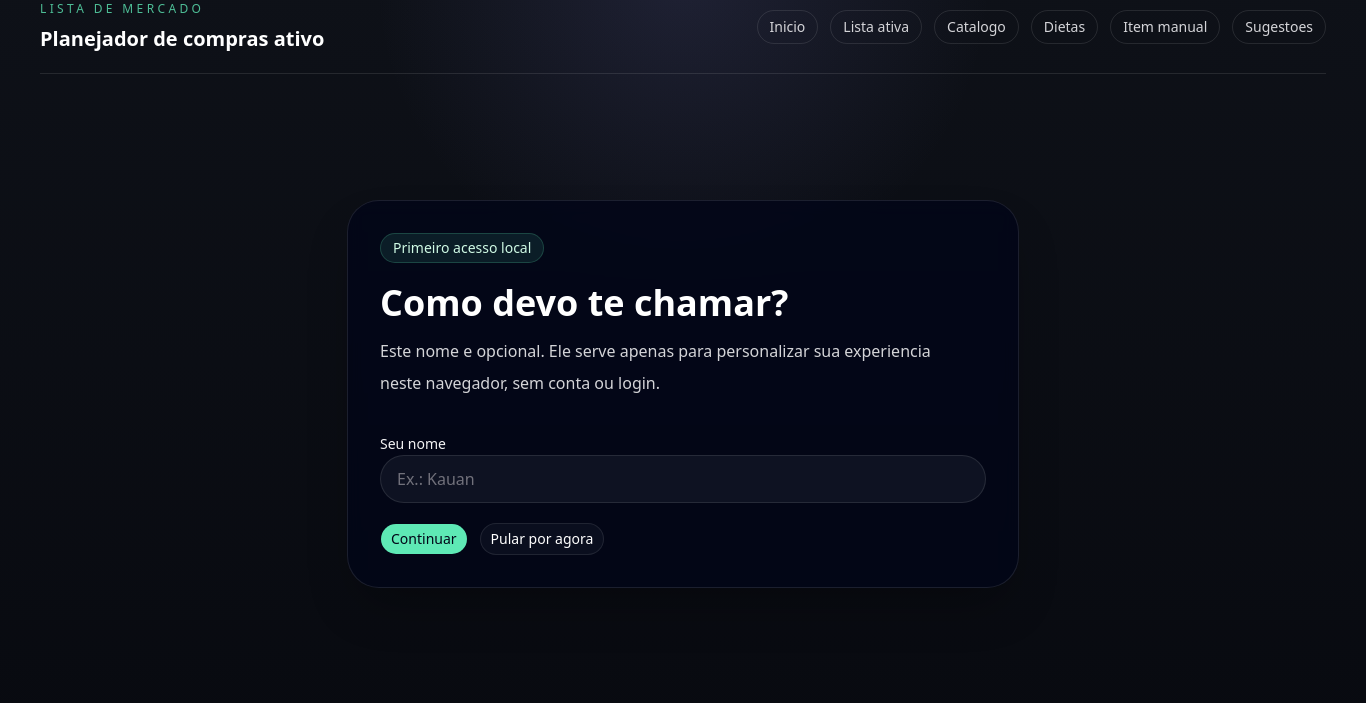
shopping-list workspace › previews and bulk adds a full diet collection while respecting merge behavior
Click the button "Pular por agora" at (542, 539), box [480,523,604,555]
(page scrolled)
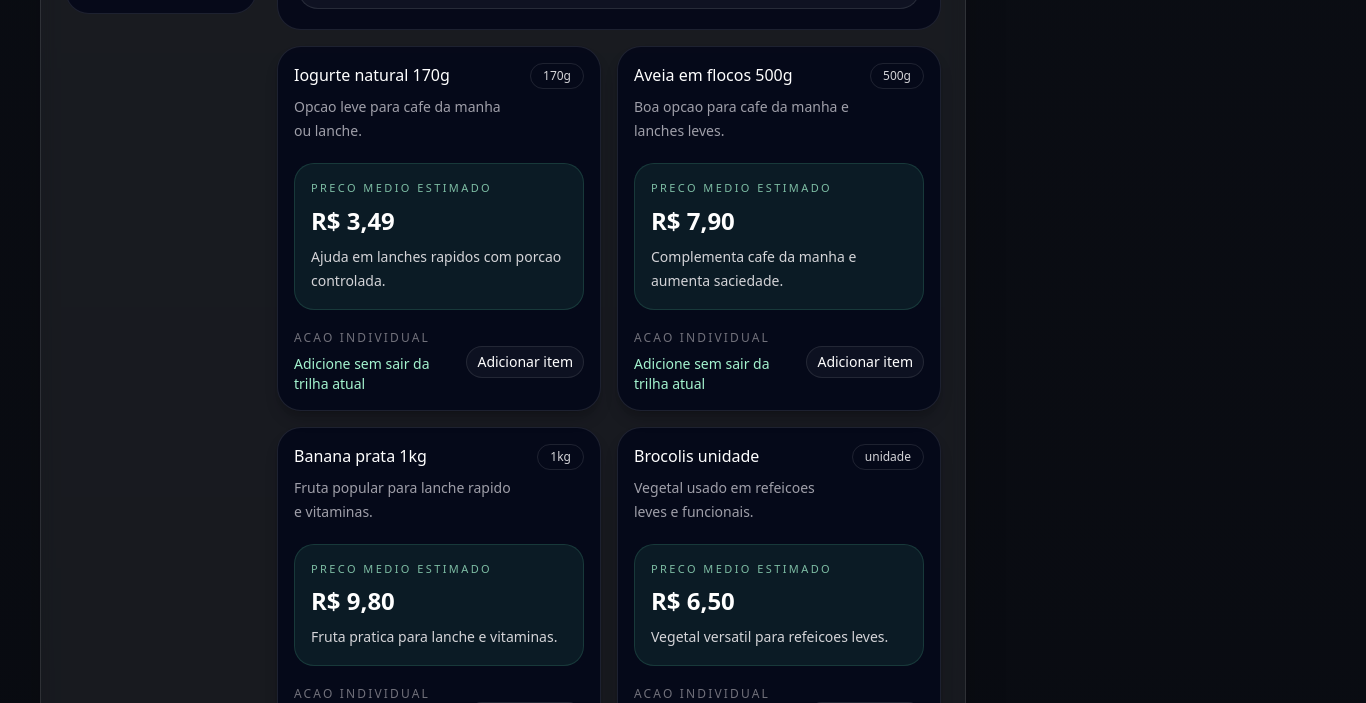
Click the button with aria-label "Adicionar Iogurte natural 170g da dieta a lista ativa" at (525, 362), box [466,346,584,378]
(page scrolled)
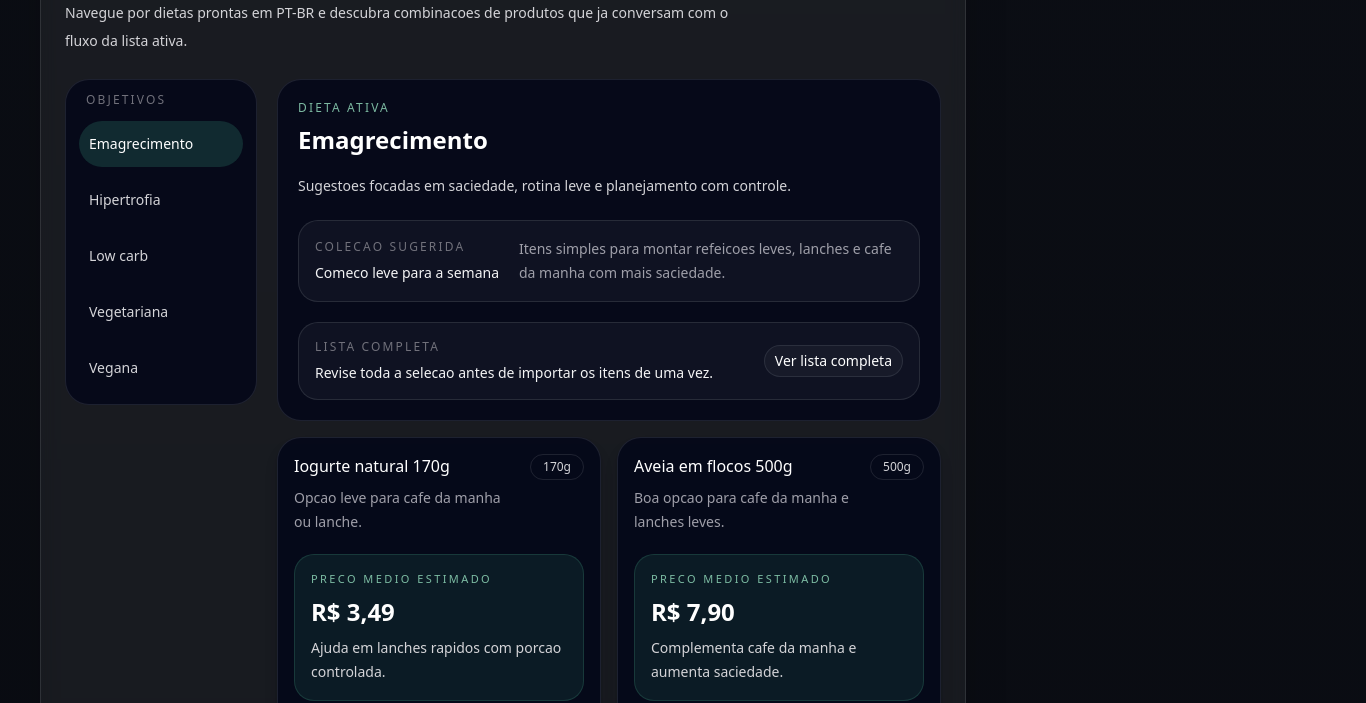
Click the button "Ver lista completa" at (833, 361), box [764,345,903,377]
(page scrolled)
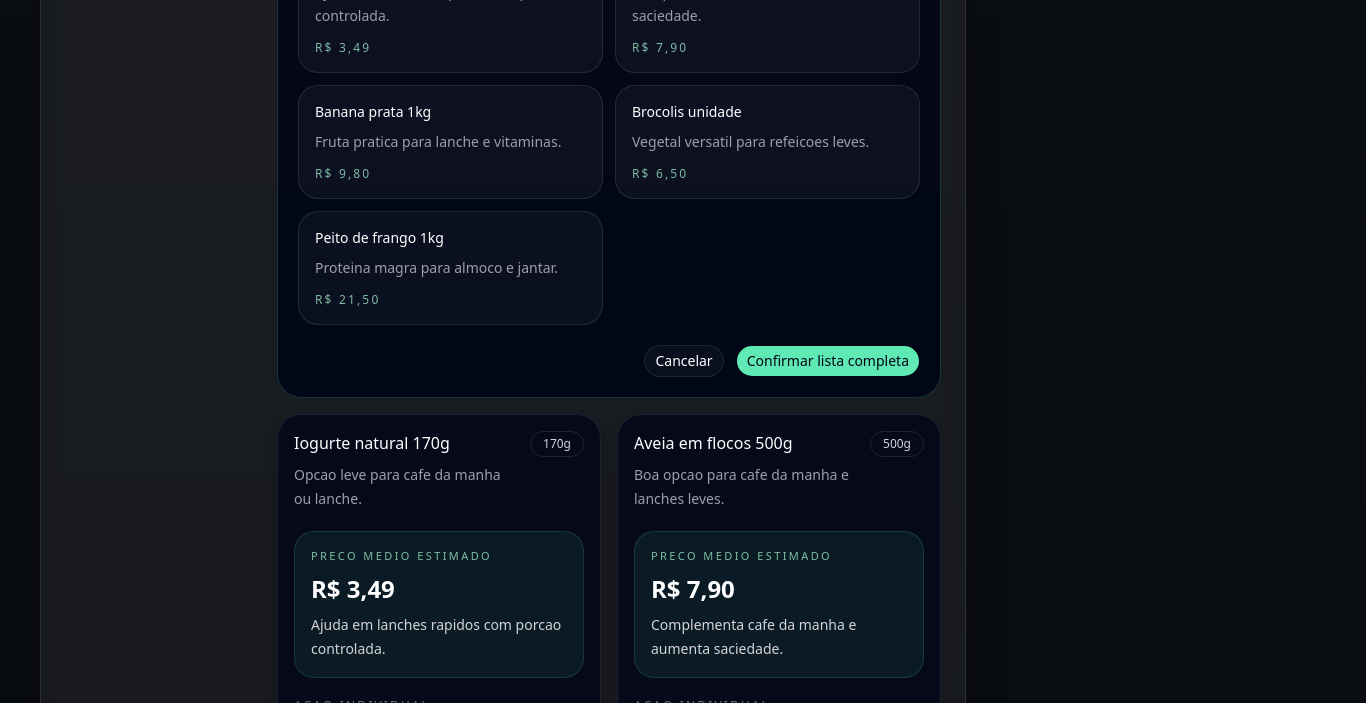
Click the button "Cancelar" at (684, 361), box [644,345,724,377]
(page scrolled)
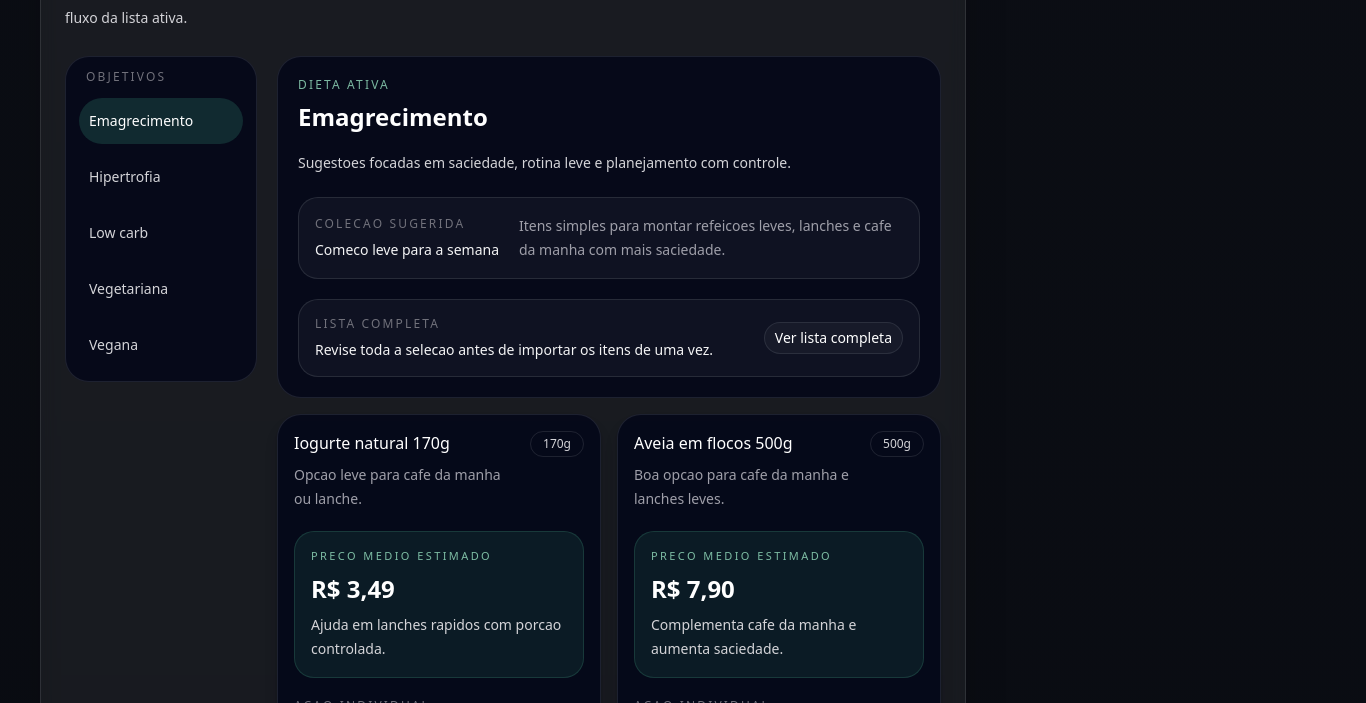
Check: the text "Iogurte natural 170g" is shown, box [294,432,450,454]
Click the button "Ver lista completa" at (833, 338), box [764,322,903,354]
(page scrolled)
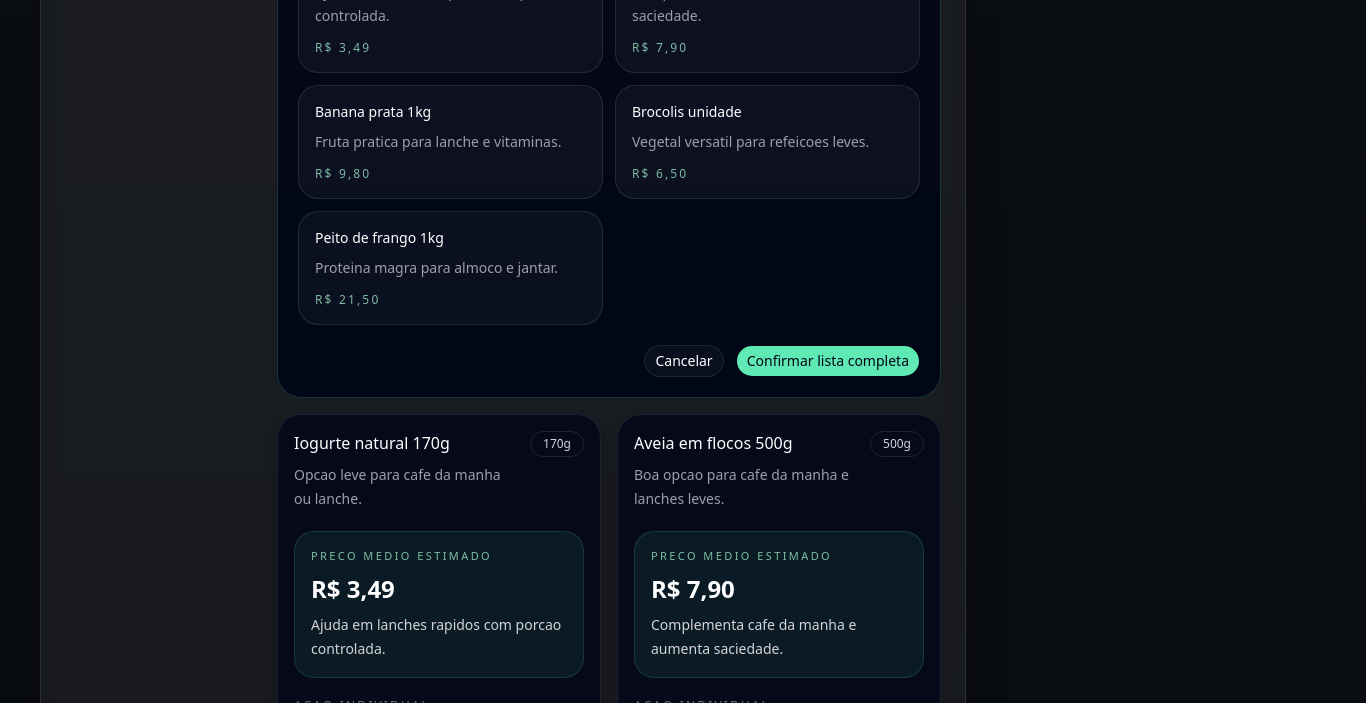
Click the button "Confirmar lista completa" at (828, 361), box [736,345,920,377]
(page scrolled)
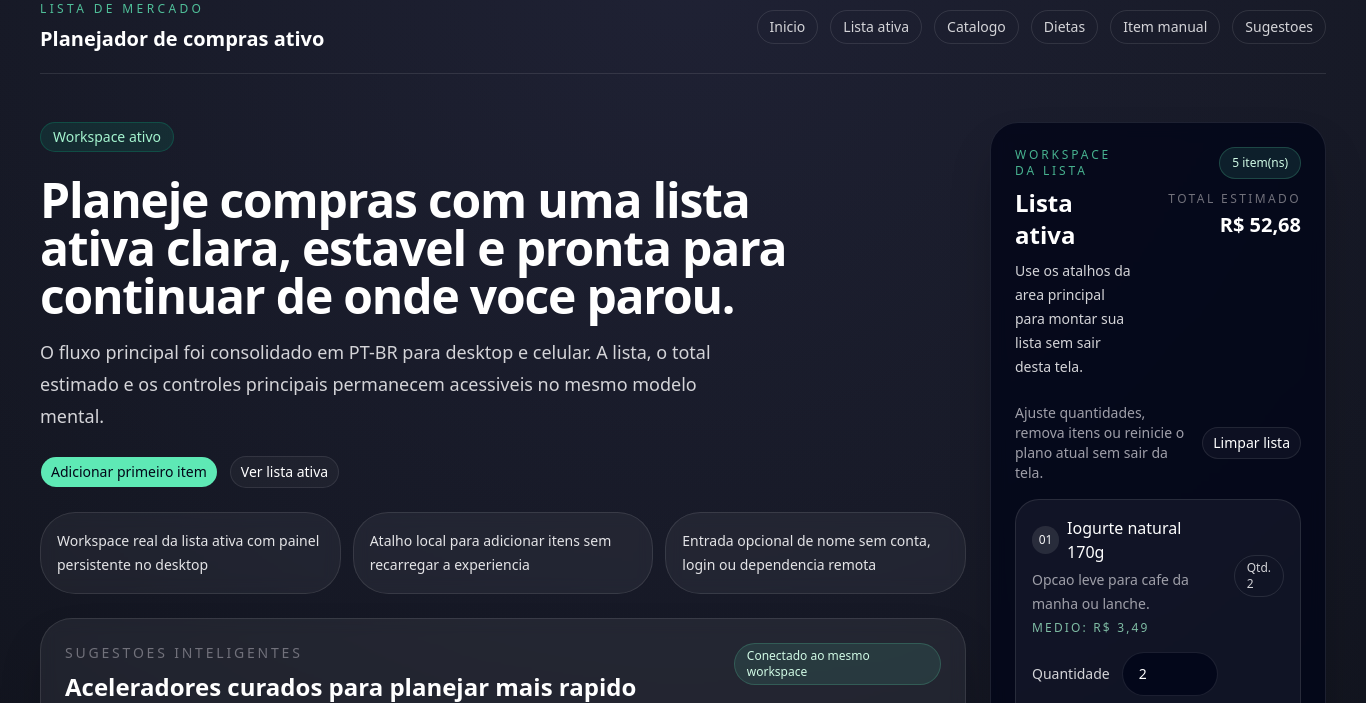
Check: the text "Qtd. 2" is shown, box [1234,555,1284,597]
Check: the text "R$ 52,68" is shown, box [1220,211,1301,238]
